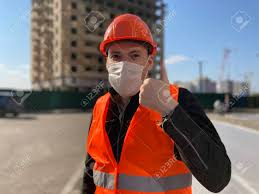Helmet: (91, 10, 161, 50)
Jacket: (91, 91, 195, 194)
Mask: (102, 63, 147, 98)
